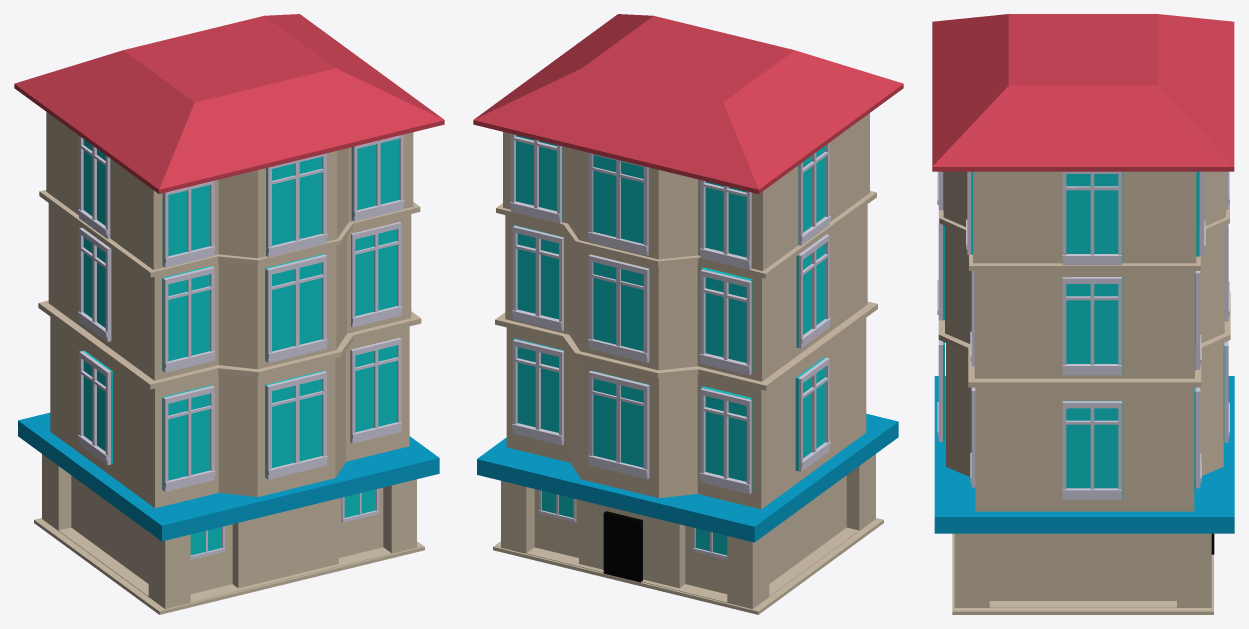
Rendered from miEdificio.fbx.
The picture shows the model from 3 angles, left to right: view 1: azimuth 30°, elevation 25°; view 2: azimuth 150°, elevation 25°; view 3: azimuth 270°, elevation 25°; orthographic projection. The views are drawn at different scales.
Visible parts, largest first — view 1: Edificio, Ventanas, Tejado, Cube.061; view 2: Edificio, Ventanas, Tejado, Cube.061; view 3: Edificio, Tejado, Ventanas, Cube.061.
Part boxes in pixels (x1=…): Edificio: x1=18, y1=112, x2=439, y2=541; Ventanas: x1=78, y1=134, x2=404, y2=491; Tejado: x1=14, y1=14, x2=444, y2=193; Cube.061: x1=34, y1=454, x2=424, y2=614; Edificio: x1=477, y1=113, x2=898, y2=542; Ventanas: x1=510, y1=134, x2=830, y2=494; Tejado: x1=473, y1=14, x2=903, y2=193; Cube.061: x1=493, y1=454, x2=883, y2=614; Edificio: x1=934, y1=171, x2=1234, y2=533; Tejado: x1=932, y1=14, x2=1234, y2=171; Ventanas: x1=937, y1=171, x2=1229, y2=499; Cube.061: x1=952, y1=533, x2=1214, y2=614.
Size of the model in its own units: 1552 by 2478 by 1365.
